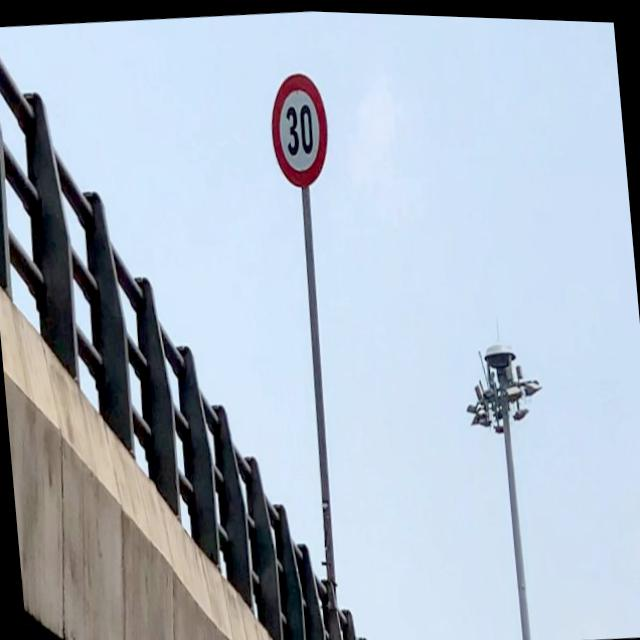Toc do toi da cho phep: (262, 64, 336, 196)
